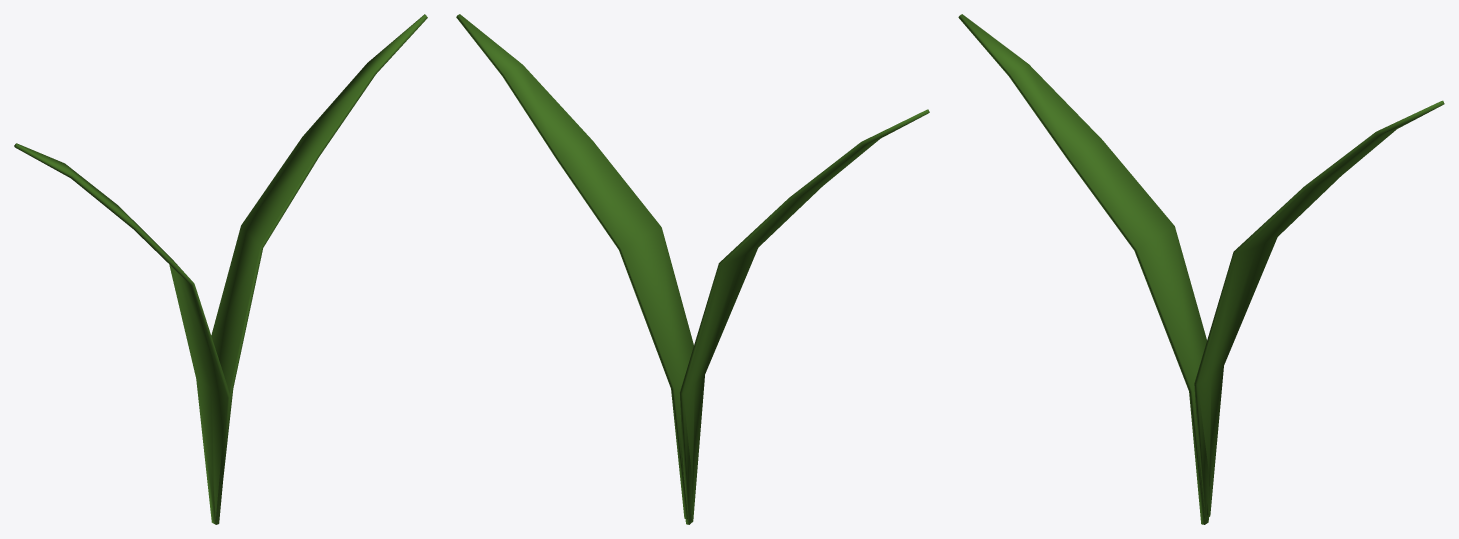
Rendered from TrigoBroto.fbx.
3 renders of one model, left to right at view 1: azimuth 30°, elevation 25°; view 2: azimuth 150°, elevation 25°; view 3: azimuth 330°, elevation 25°, orthographic. The views are drawn at different scales.
Visible parts, largest first — view 1: TrigoBroto; view 2: TrigoBroto; view 3: TrigoBroto.
Part boxes in pixels (x1,y1,x2,y2): TrigoBroto: (14, 14, 427, 524); TrigoBroto: (456, 14, 929, 524); TrigoBroto: (958, 14, 1444, 524).
Bounding box in the file's own units: 26.7 × 26.24 × 4.76.
